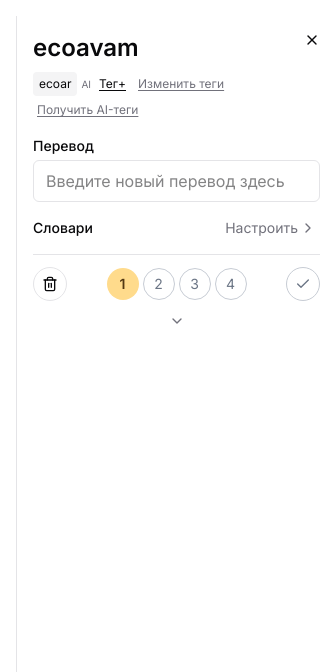
Test: keeps manual editing usable when AI is disabled
Click the button "Получить AI-теги": (88, 110) [33,100,142,120]
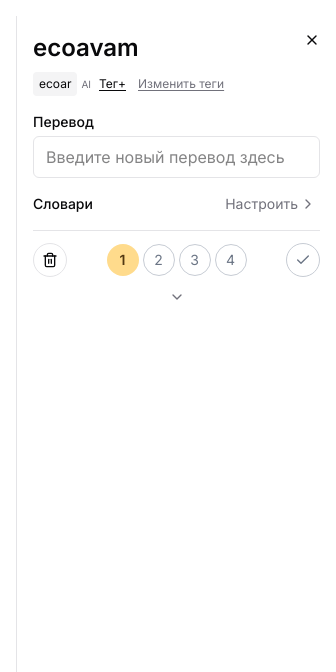
Now the button "Получить AI-теги" is gone
Click the button "Тег+": (112, 84) [95,74,130,94]
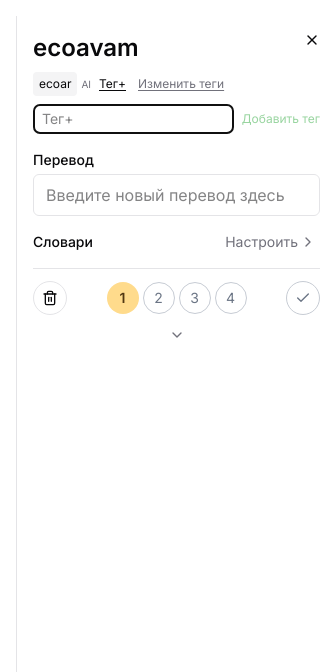
In the field named "Новый тег": (133, 119) [33,104,234,134], type "  Глагол  "
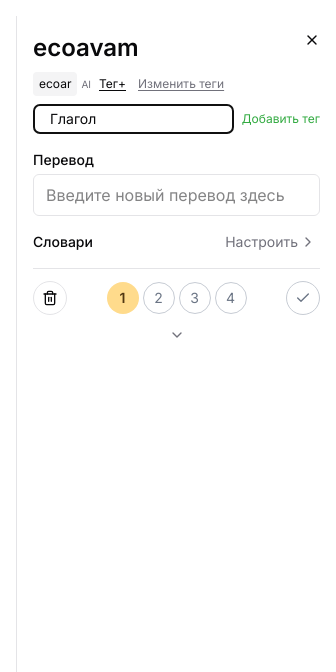
Press Enter in the field named "Новый тег", box [33,104,234,134]
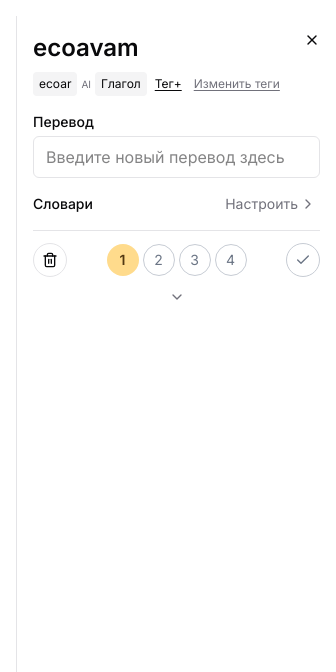
Now the text "Глагол" is shown, box [95,72,147,96]
